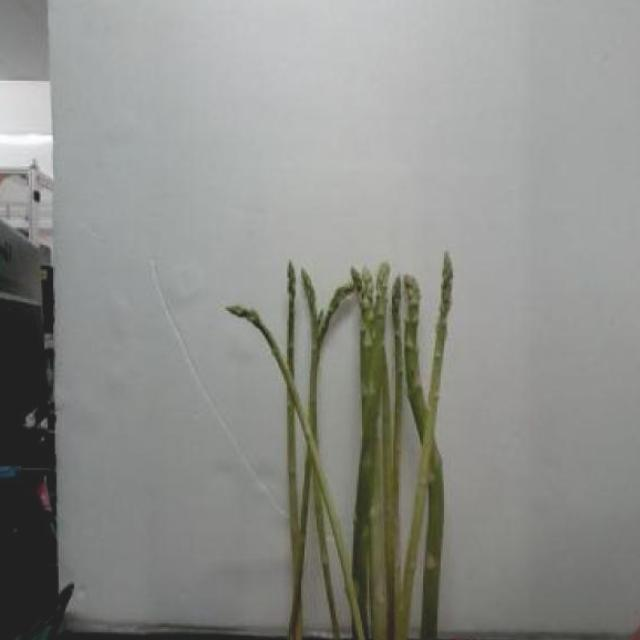aspargus: (214, 298, 371, 640), (390, 243, 460, 640)
